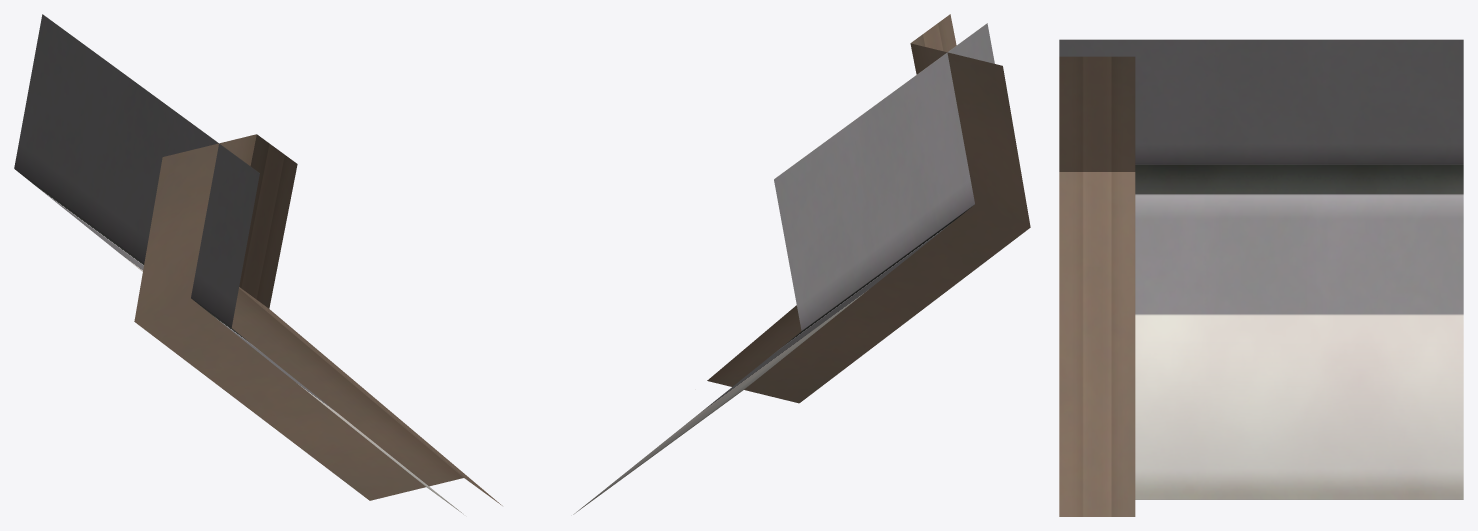
File: model_tng_corridor_angled_alt_btm_left.obj
The picture shows the model from 3 angles, left to right: view 1: azimuth 30°, elevation 25°; view 2: azimuth 150°, elevation 25°; view 3: azimuth 270°, elevation 25°; orthographic projection. The views are drawn at different scales.
Visible parts, largest first — view 1: corridor_btm_left; view 2: corridor_btm_left; view 3: corridor_btm_left.
Part boxes in pixels (x1,y1,x2,y2): corridor_btm_left: (14,14,502,514); corridor_btm_left: (573,14,1030,514); corridor_btm_left: (1059,39,1463,516).
Bounding box in the file's own units: 0.875 × 1 × 1.
